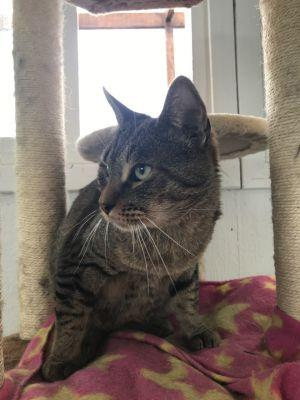bengal: (80, 70, 223, 237)
